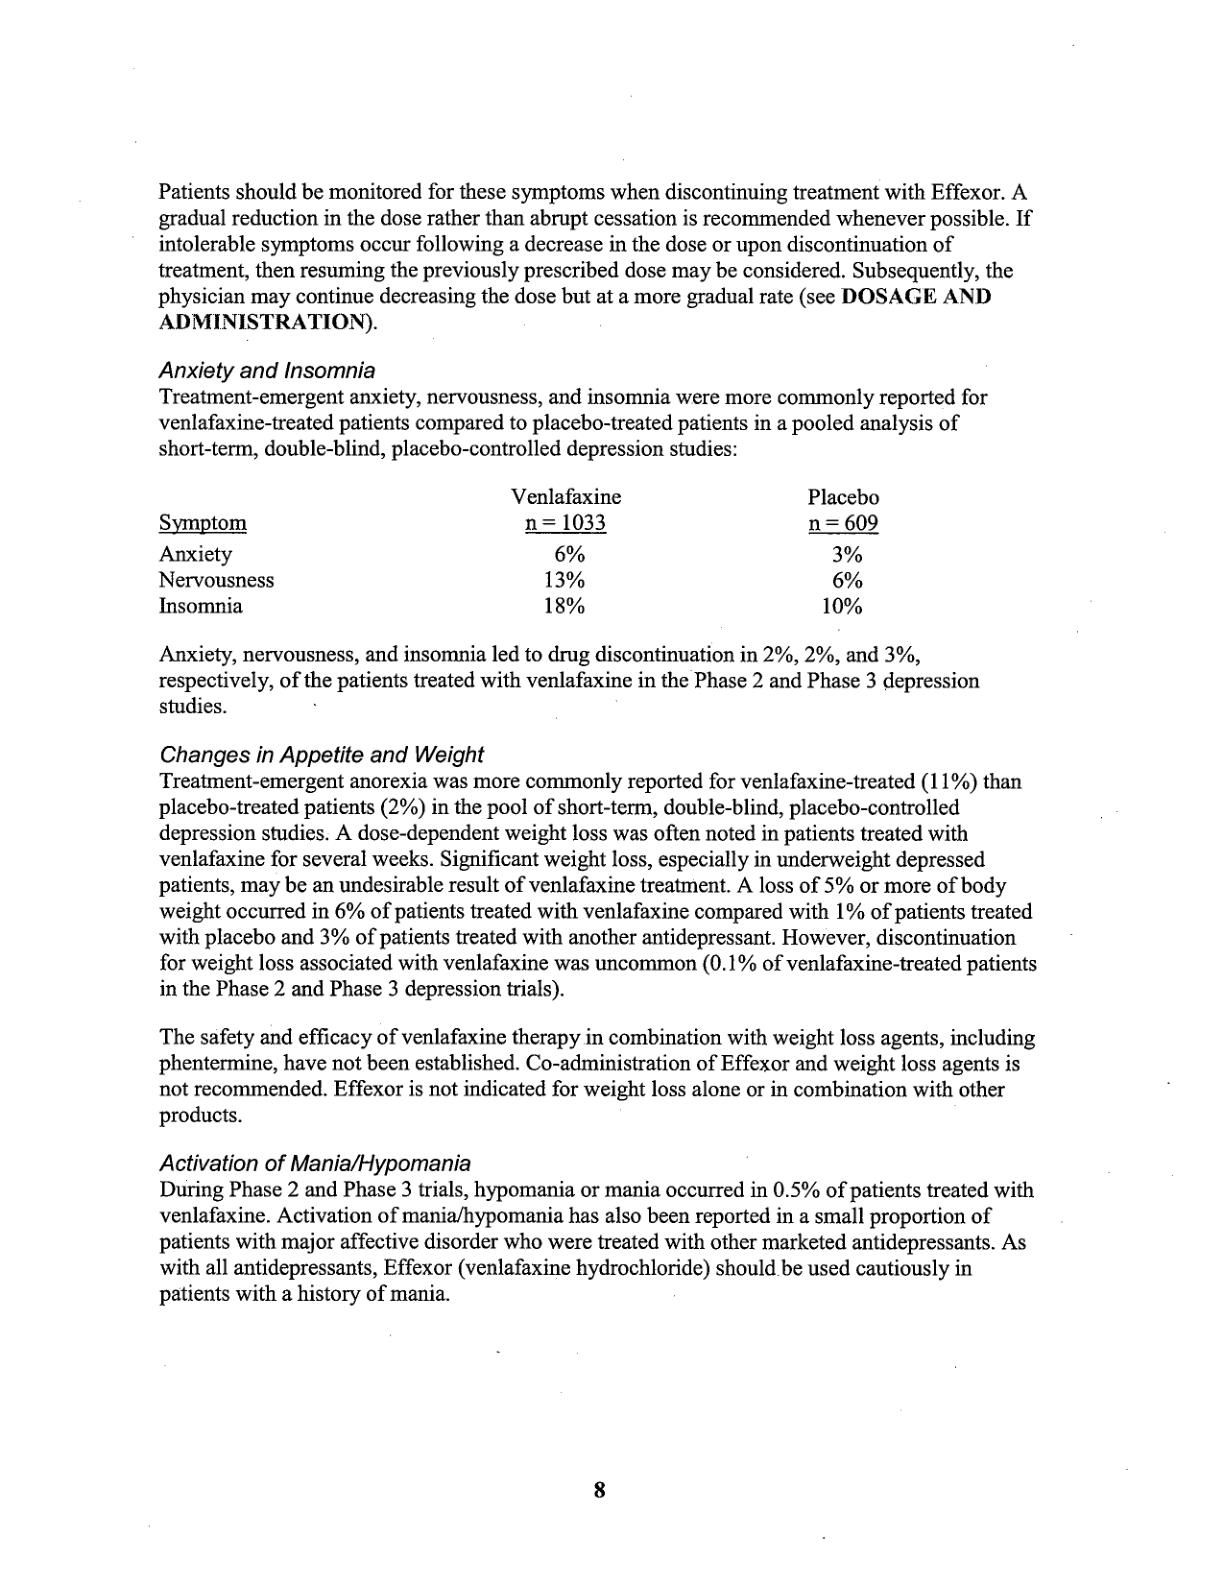nolines: (156, 483, 879, 618)
